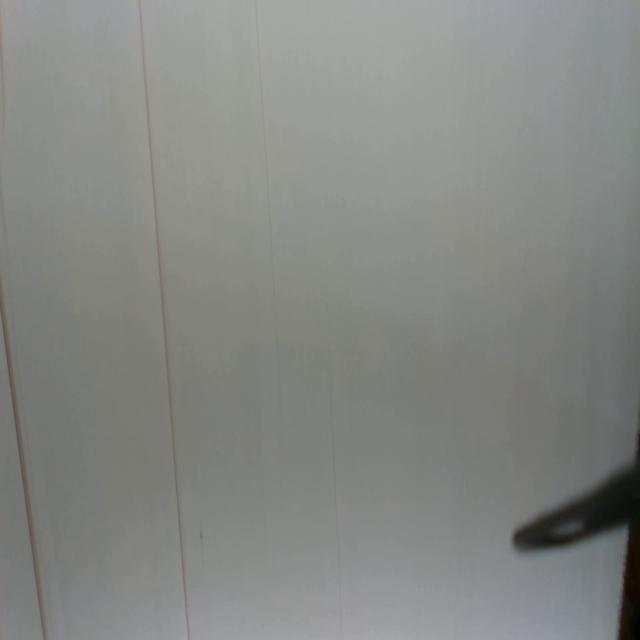crease: (138, 0, 191, 639), (0, 292, 44, 640), (255, 0, 285, 432), (326, 343, 344, 640)
hole: (198, 526, 206, 545)
